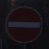No entry: (5, 5, 44, 44)
